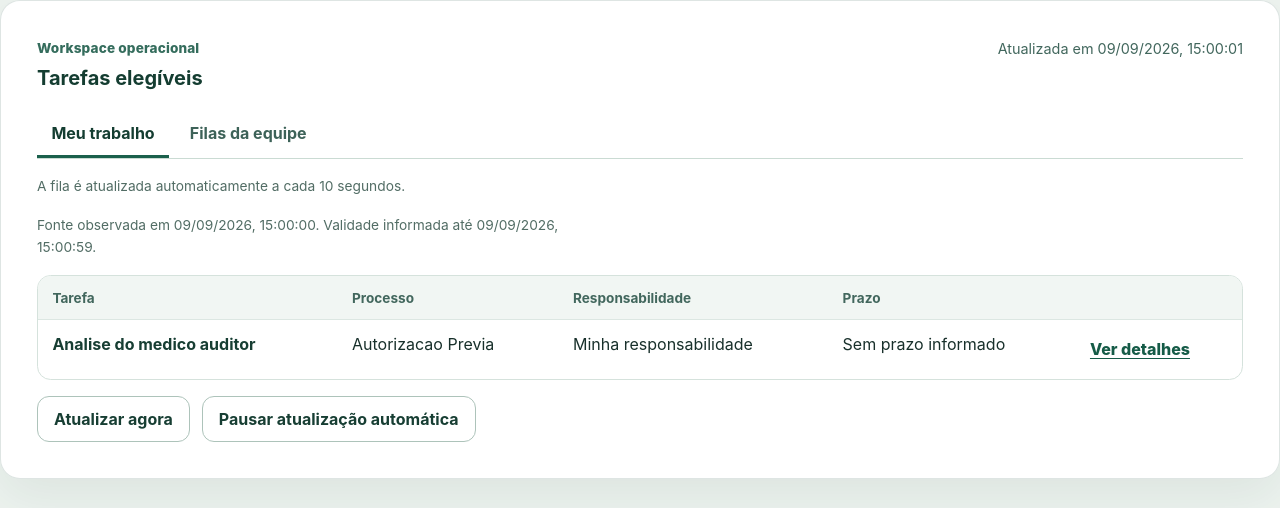
remove conteúdo da fila quando a sessão expira no endpoint de leitura
Expected: the column heading "Analise do medico auditor" is shown, [38,320,338,379]
Click the button "Atualizar agora".
click(113, 419)  # box [37,396,190,442]
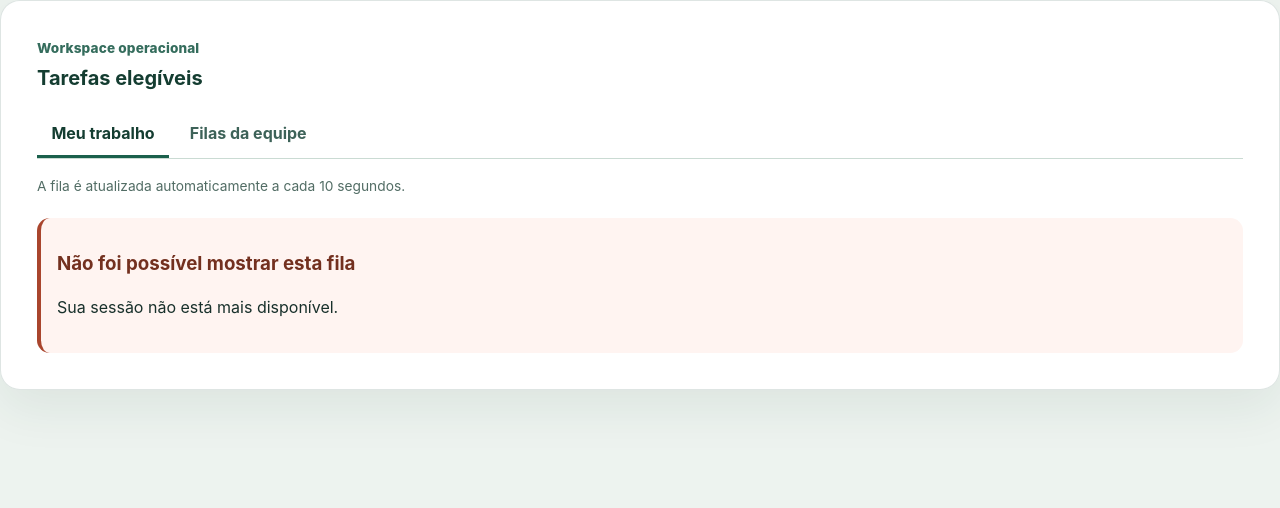
Now the column heading "Analise do medico auditor" is gone
